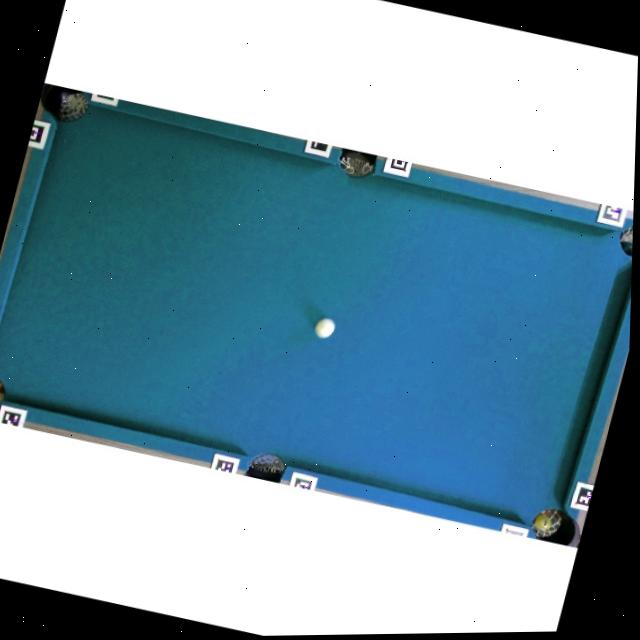cue ball: (312, 315, 338, 340)
